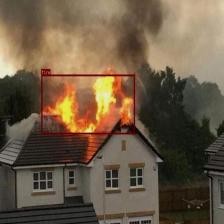fire: (41, 74, 135, 134)
